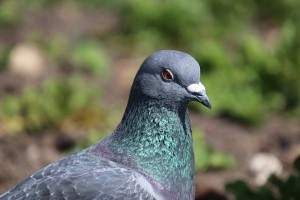pigeon: (92, 47, 218, 200)
